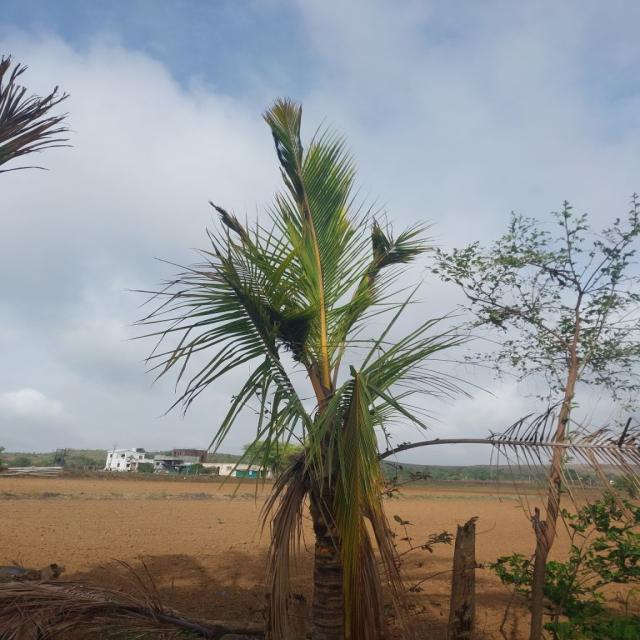bud root dropping: (140, 100, 463, 640)
